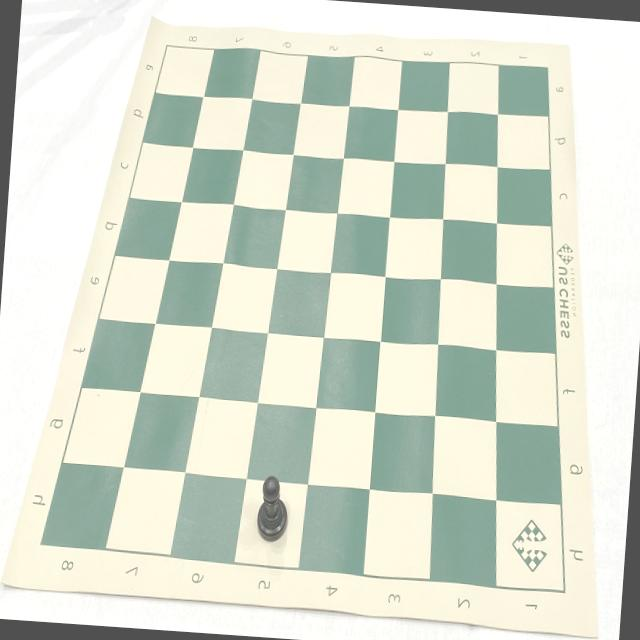black-pawn: (254, 474, 292, 544)
